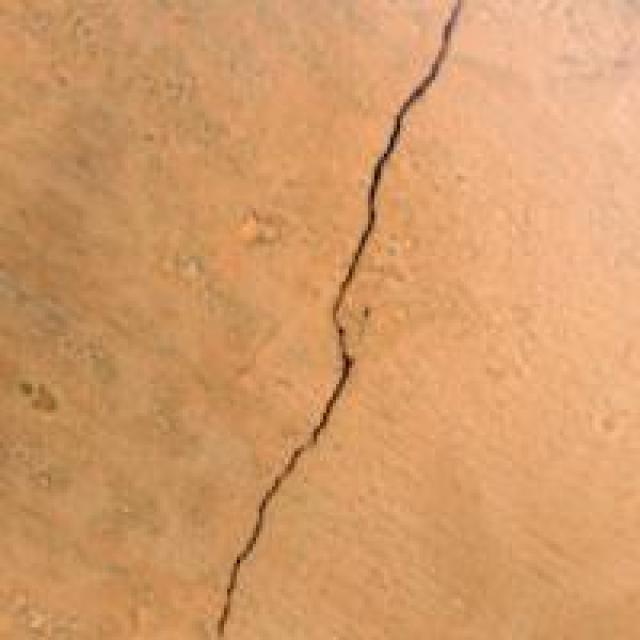Crack: (198, 0, 477, 637)
